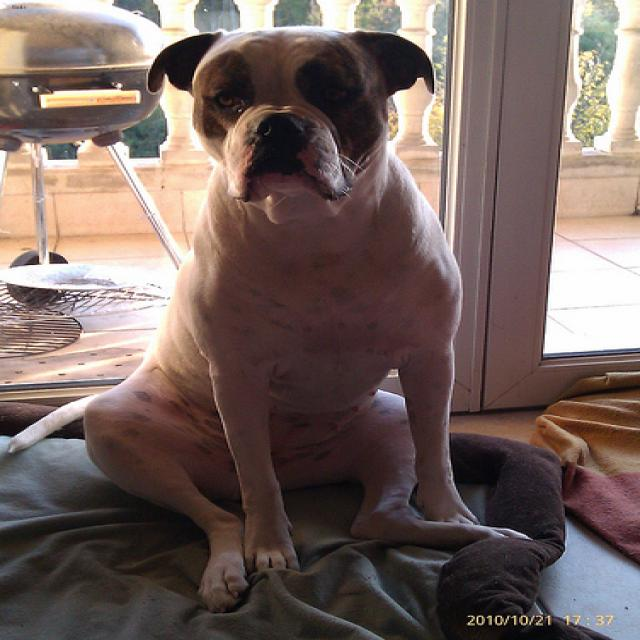dog-american_bulldog: (2, 17, 540, 626)
